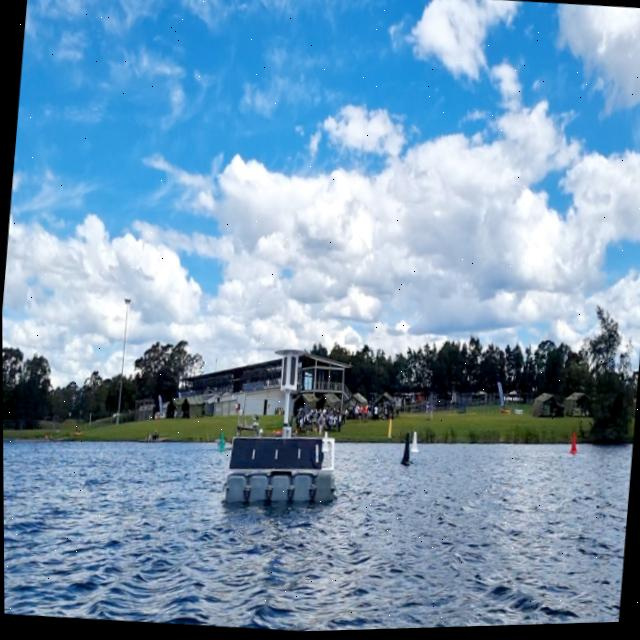led: (286, 355, 297, 389), (279, 356, 288, 390)
